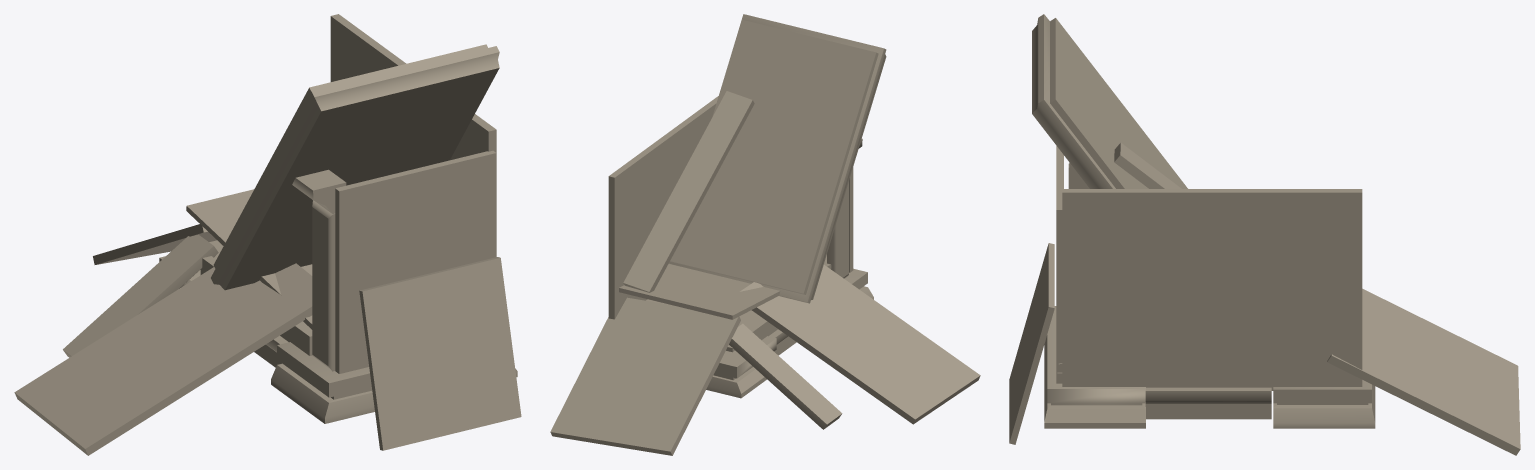
File: Cupboard_09_Break_Lod1.fbx
3 renders of one model, left to right at view 1: azimuth 30°, elevation 25°; view 2: azimuth 150°, elevation 25°; view 3: azimuth 270°, elevation 25°, orthographic. The views are drawn at different scales.
Visible parts, largest first — view 1: Cupboard_09_Break_Lod1; view 2: Cupboard_09_Break_Lod1; view 3: Cupboard_09_Break_Lod1.
Boxes of the visible parts, x1=… form: Cupboard_09_Break_Lod1: x1=14, y1=14, x2=521, y2=455; Cupboard_09_Break_Lod1: x1=550, y1=14, x2=980, y2=455; Cupboard_09_Break_Lod1: x1=1009, y1=14, x2=1520, y2=455.
Size of the model in its own units: 126 by 117 by 153.
